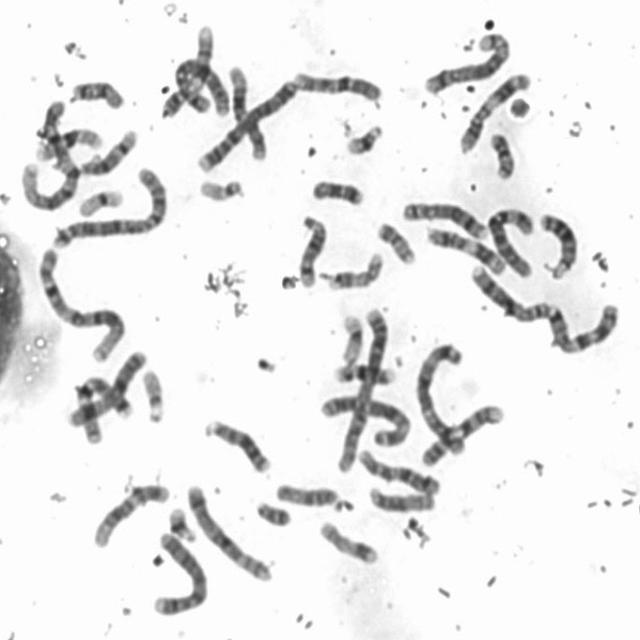A1: (33, 240, 129, 364), (19, 93, 79, 213)
A2: (48, 160, 172, 250), (330, 301, 393, 473)
A3: (411, 335, 470, 460), (317, 389, 414, 450)
B4: (192, 74, 300, 174), (146, 527, 210, 618)
B5: (182, 478, 274, 584), (420, 26, 515, 95)
C10: (354, 443, 444, 498), (288, 65, 384, 104)
C11: (454, 66, 534, 156), (423, 221, 509, 277)
C12: (87, 476, 173, 549), (223, 58, 270, 162)
C6: (159, 54, 233, 121), (480, 202, 537, 280)
C7: (551, 294, 625, 360), (70, 373, 132, 445)
C8: (468, 264, 553, 326), (396, 195, 489, 241)
C9: (416, 398, 506, 468), (159, 19, 215, 119)
D13: (200, 413, 274, 474), (534, 207, 581, 281)
D14: (71, 123, 140, 178), (293, 209, 330, 290)
D15: (272, 476, 354, 514), (365, 481, 438, 514)
E16: (30, 122, 105, 162), (328, 356, 398, 386)
E17: (315, 515, 381, 566), (322, 246, 386, 292)
E18: (67, 74, 126, 112), (306, 174, 366, 208)
F19: (73, 183, 126, 218), (336, 308, 366, 365)
F20: (372, 216, 419, 266), (485, 128, 516, 182)
G21: (341, 118, 386, 157), (164, 501, 199, 544)
G22: (136, 362, 169, 426), (194, 172, 248, 204)
X: (64, 345, 148, 430)
Y: (251, 495, 294, 528)
